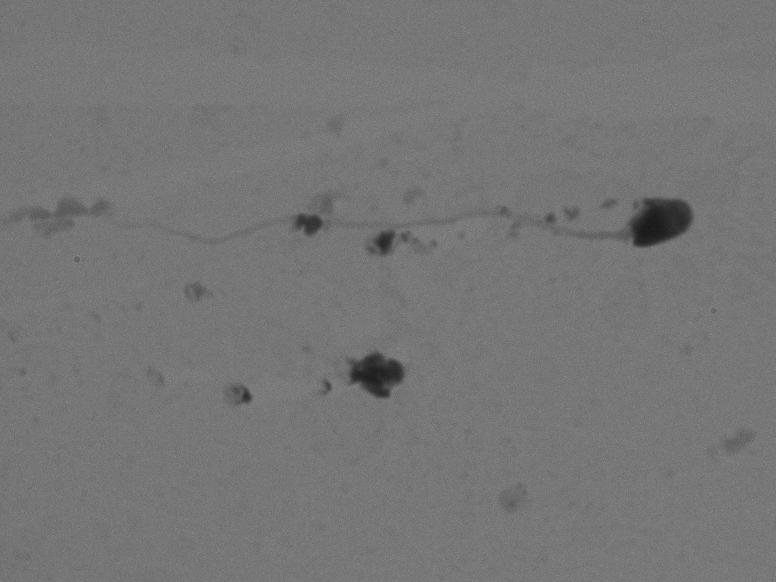Abnormal: (75, 133, 715, 303)
